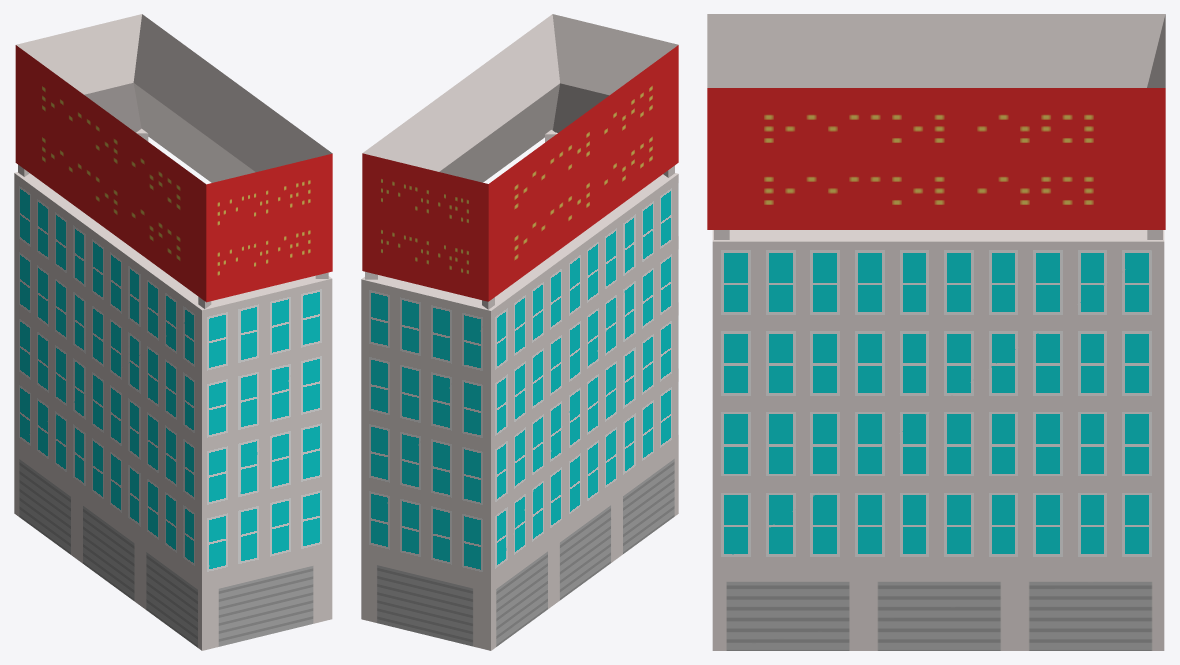
Rendered from kanbanbiru.obj.
The picture shows the model from 3 angles, left to right: view 1: azimuth 30°, elevation 25°; view 2: azimuth 150°, elevation 25°; view 3: azimuth 270°, elevation 25°; orthographic projection. The views are drawn at different scales.
Visible parts, largest first — view 1: pCube1, pTorus1; view 2: pCube1, pTorus1; view 3: pCube1, pTorus1.
Boxes of the visible parts, x1=… form: pCube1: x1=14, y1=172, x2=332, y2=650; pTorus1: x1=15, y1=14, x2=332, y2=302; pCube1: x1=361, y1=173, x2=678, y2=650; pTorus1: x1=362, y1=14, x2=678, y2=301; pCube1: x1=712, y1=230, x2=1164, y2=650; pTorus1: x1=707, y1=14, x2=1165, y2=229.
Size of the model in its own units: 2 by 6.87 by 5.07.
Materials: 3 (3 with a texture image).
